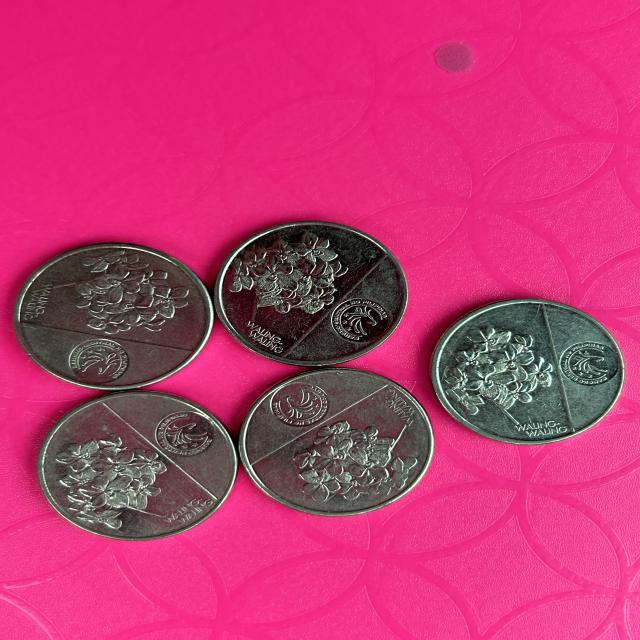1_New_Back: (42, 426, 190, 526), (284, 407, 411, 505), (54, 251, 189, 340), (444, 316, 554, 422), (234, 227, 345, 327)
